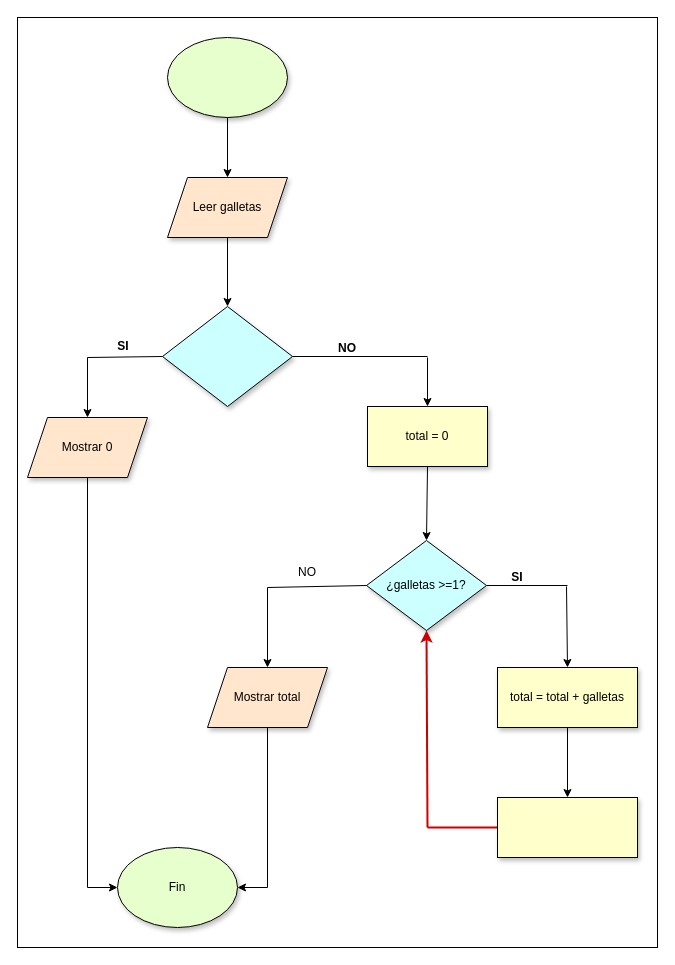
Image size: 675x965. Some labels were removed from this diagram. The shapes that lost their labels are listed below. From the top down, each one's centre as x and y in pixels, then its label:
At point (228, 78): "Inicio".
At point (228, 358): "¿galletas <= 0?".
At point (568, 828): "galletas = galletas / 2".
